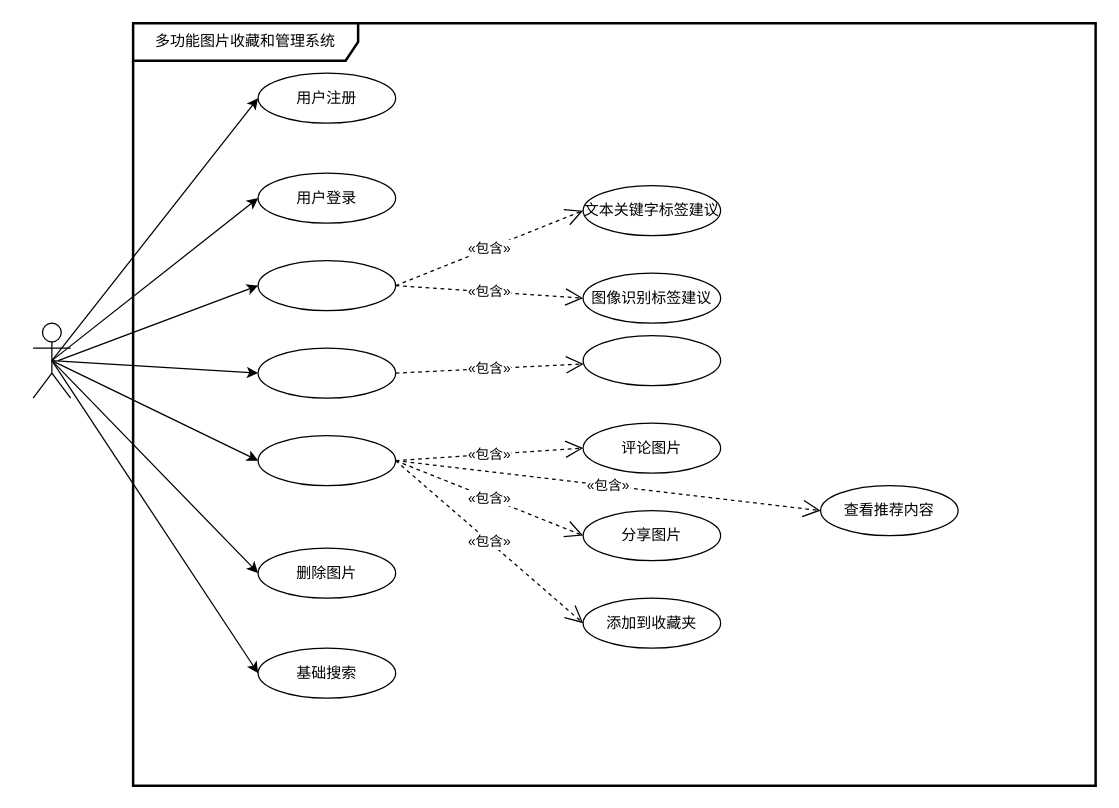
This 1119x808 diagram has some shape labels left out. The shapes that lost their labels are listed below. From the top down, each one's box as (x1, y1, x2, y2) in pixels, then its label:
(257, 259, 396, 311): 上传图片
(32, 322, 71, 398): 普通用户
(257, 347, 396, 398): 创建收藏夹
(582, 334, 721, 386): 管理收藏夹
(257, 434, 396, 486): 浏览图片
